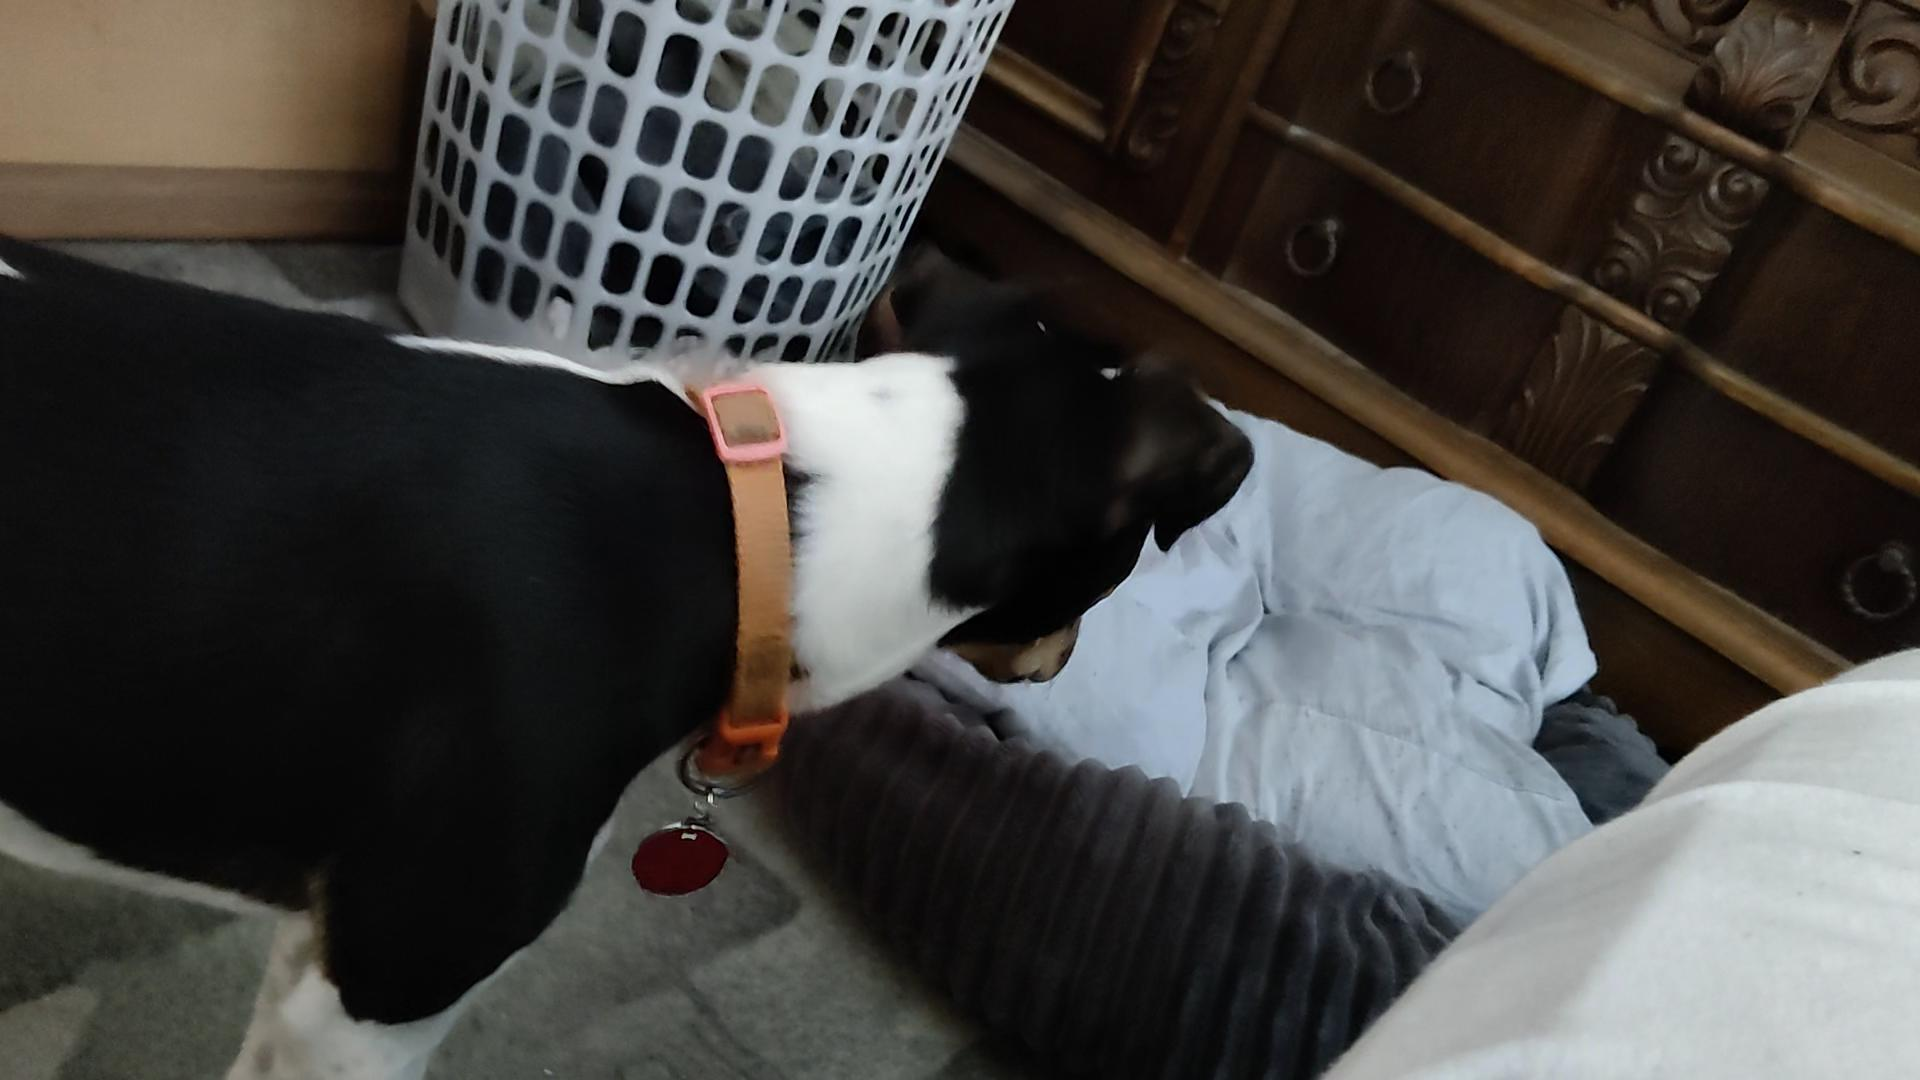Dog: (0, 219, 1263, 1079)
